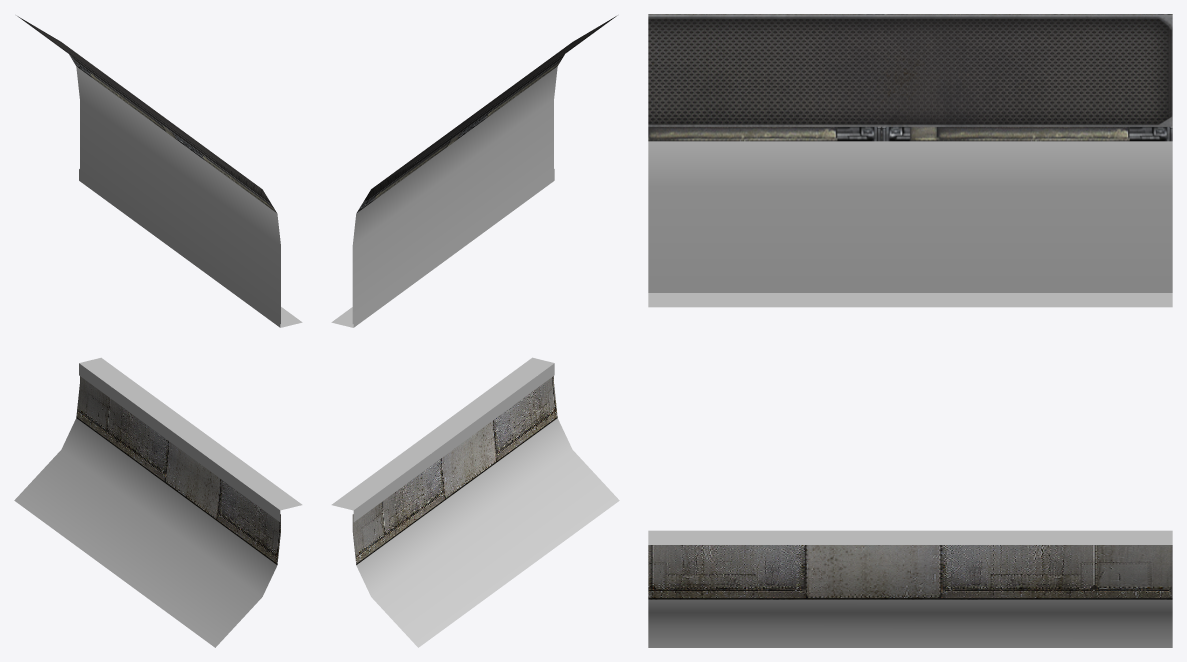
The model's file is Wall_L_Mid4mts_04.fbx.
3 views of the same model, side by side, from view 1: azimuth 30°, elevation 25°; view 2: azimuth 150°, elevation 25°; view 3: azimuth 270°, elevation 25° (orthographic). The views are drawn at different scales.
Parts seen in each view (by area): view 1: Wall_L_Mid4mts_04; view 2: Wall_L_Mid4mts_04; view 3: Wall_L_Mid4mts_04.
Boxes of the visible parts, x1,y1,x2,y2 form: Wall_L_Mid4mts_04: [14, 15, 302, 647]; Wall_L_Mid4mts_04: [331, 15, 619, 647]; Wall_L_Mid4mts_04: [648, 14, 1172, 647].
Size of the model in its own units: 75.24 by 400 by 300.
